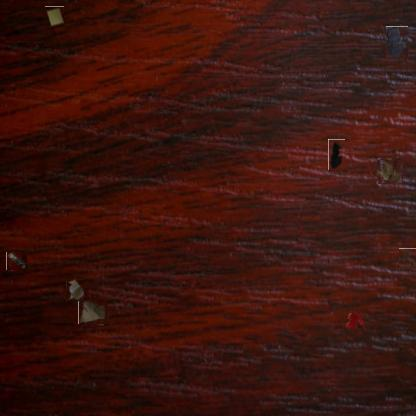dirty: (80, 299, 106, 326), (377, 159, 403, 184), (328, 139, 345, 170), (66, 277, 84, 301), (44, 6, 64, 27), (7, 252, 27, 271), (398, 248, 416, 269)
liquid: (386, 26, 408, 59), (343, 309, 365, 329)
